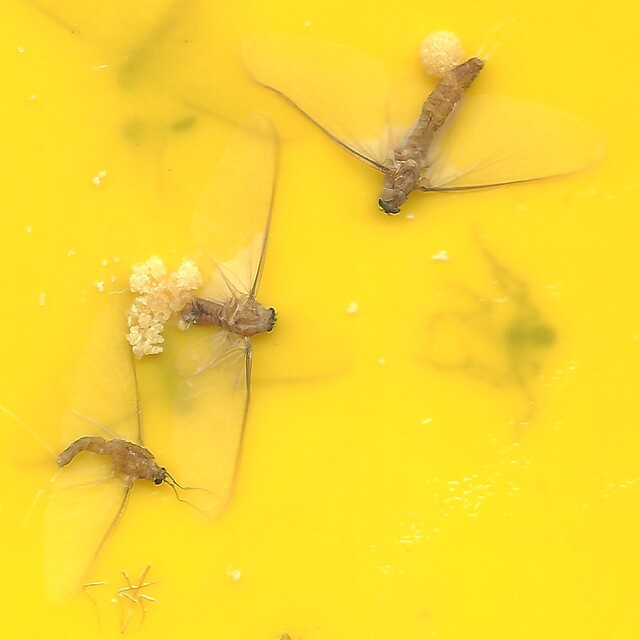Ephemeroptera: (246, 46, 597, 216), (168, 119, 282, 520), (43, 309, 171, 594)
